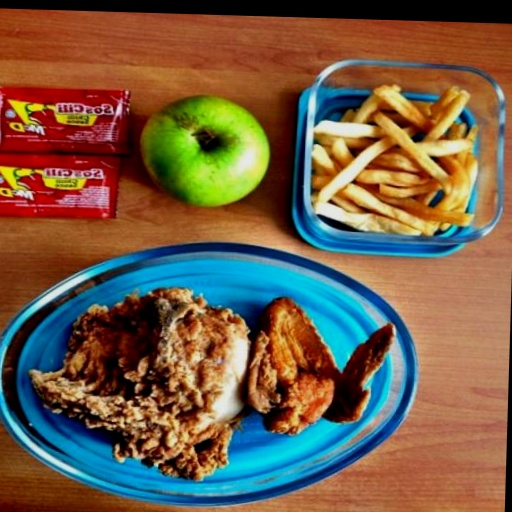fruit: (140, 96, 268, 206)
